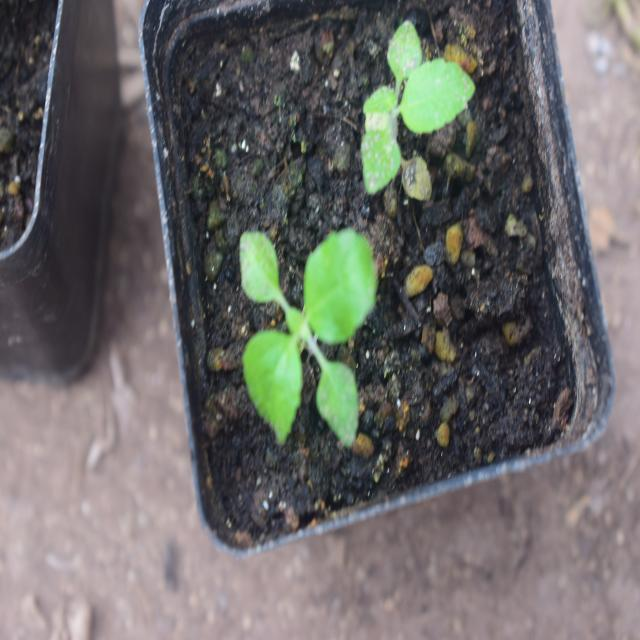billygoat_weed: (237, 202, 381, 457)
